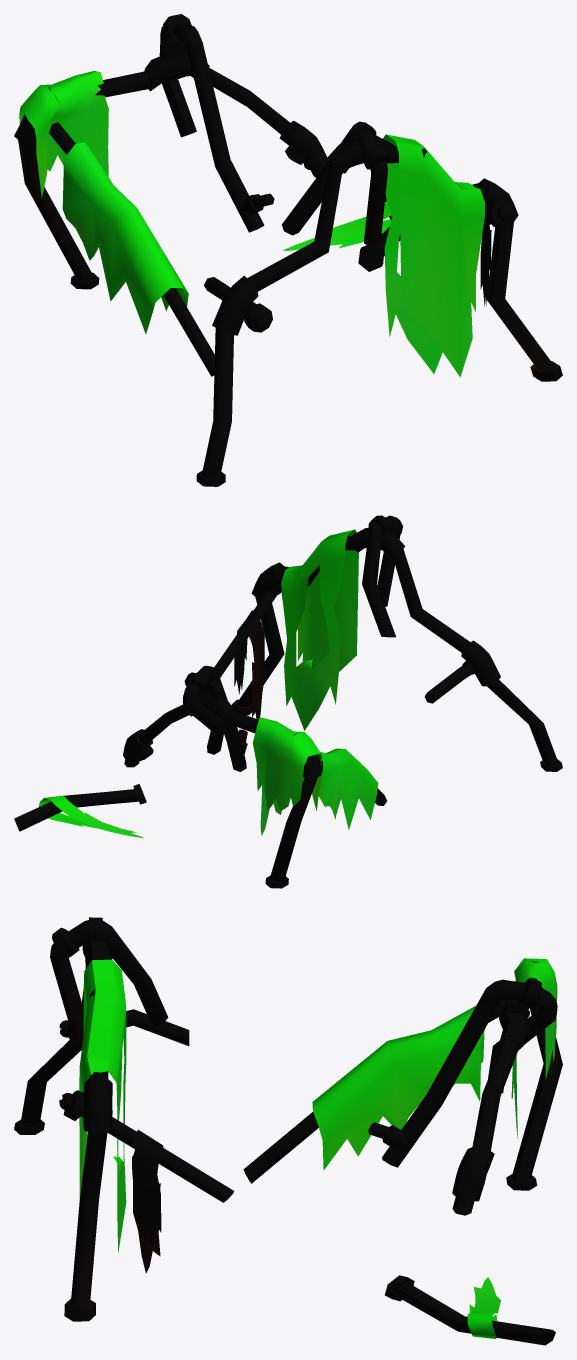
File: env_camping_raintent03_lod0.fbx
3 renders of one model, top to bottom at view 1: azimuth 30°, elevation 25°; view 2: azimuth 150°, elevation 25°; view 3: azimuth 270°, elevation 25°, orthographic. The views are drawn at different scales.
Visible parts, largest first — view 1: env_camping_raintent03_lod0; view 2: env_camping_raintent03_lod0; view 3: env_camping_raintent03_lod0.
Part boxes in pixels (x1,y1,x2,y2): env_camping_raintent03_lod0: [14, 14, 562, 486]; env_camping_raintent03_lod0: [14, 515, 562, 888]; env_camping_raintent03_lod0: [14, 917, 562, 1345].
Size of the model in its own units: 39.94 by 25.62 by 41.45.
